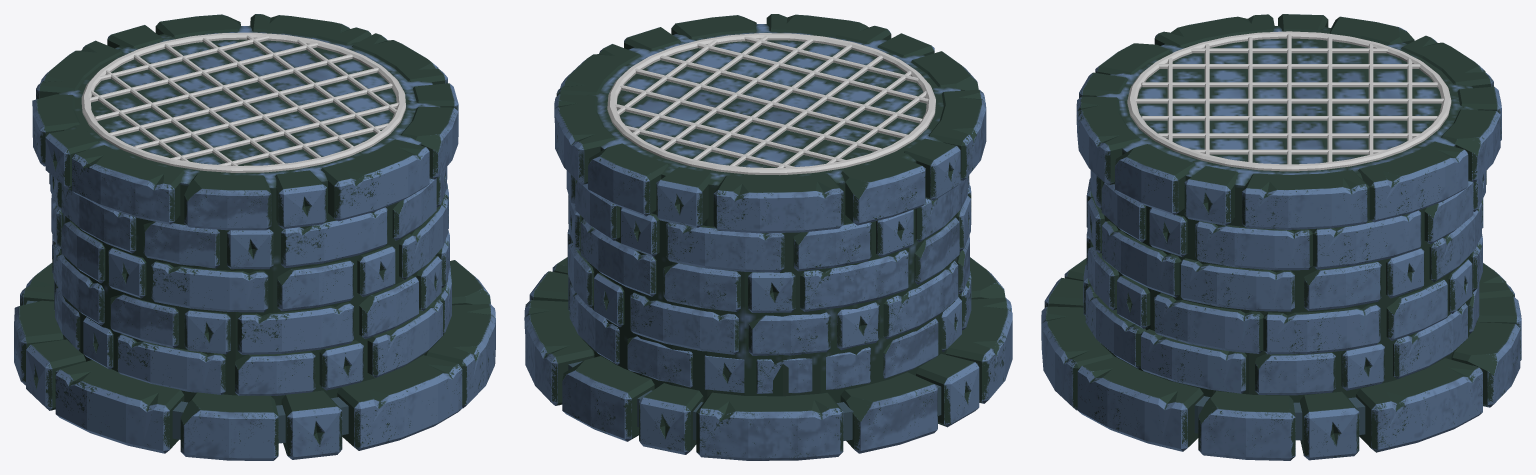
Rendered from Studnia 1.fbx.
The picture shows the model from 3 angles, left to right: view 1: azimuth 30°, elevation 25°; view 2: azimuth 150°, elevation 25°; view 3: azimuth 270°, elevation 25°; orthographic projection.
Visible parts, largest first — view 1: Cube.004; view 2: Cube.004; view 3: Cube.004.
Boxes of the visible parts, x1,y1,x2,y2 form: Cube.004: (14,14,495,460); Cube.004: (524,14,1012,460); Cube.004: (1041,14,1521,460).
Size of the model in its own units: 2343 by 1395 by 2344.
